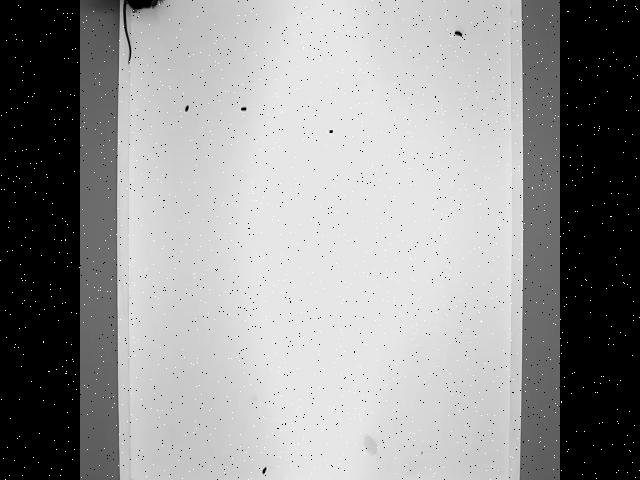Tikus: (120, 0, 164, 62)
